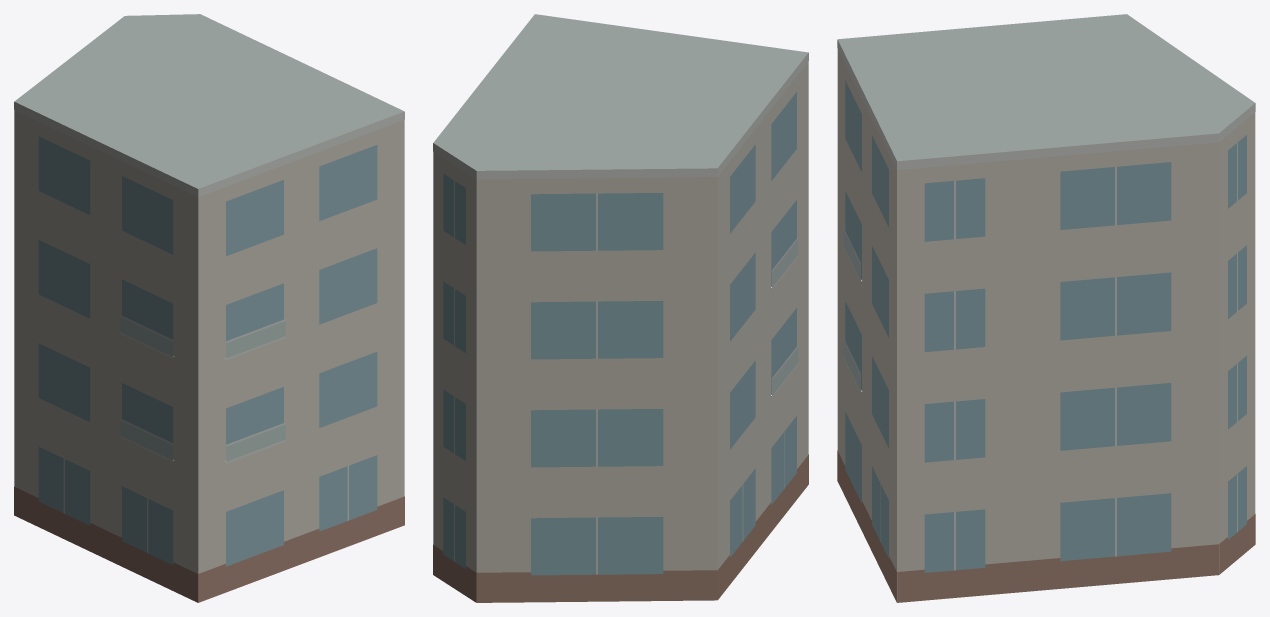
The model's file is residential-68b37c2d-a7a4-48f1-8e2f-63bb5b94eb28.glb.
The picture shows the model from 3 angles, left to right: view 1: azimuth 30°, elevation 25°; view 2: azimuth 150°, elevation 25°; view 3: azimuth 270°, elevation 25°; orthographic projection. The views are drawn at different scales.
Parts seen in each view (by area): view 1: residential-68b37c2d-a7a4-48f1-8e2f-63bb5b94eb28.tmp; view 2: residential-68b37c2d-a7a4-48f1-8e2f-63bb5b94eb28.tmp; view 3: residential-68b37c2d-a7a4-48f1-8e2f-63bb5b94eb28.tmp.
Boxes of the visible parts, box(x1,y1,x2,y2) form: residential-68b37c2d-a7a4-48f1-8e2f-63bb5b94eb28.tmp: box(14, 14, 404, 602); residential-68b37c2d-a7a4-48f1-8e2f-63bb5b94eb28.tmp: box(433, 14, 808, 602); residential-68b37c2d-a7a4-48f1-8e2f-63bb5b94eb28.tmp: box(837, 14, 1255, 602).
Bounding box in the file's own units: 8.73 × 12.2 × 10.48.
